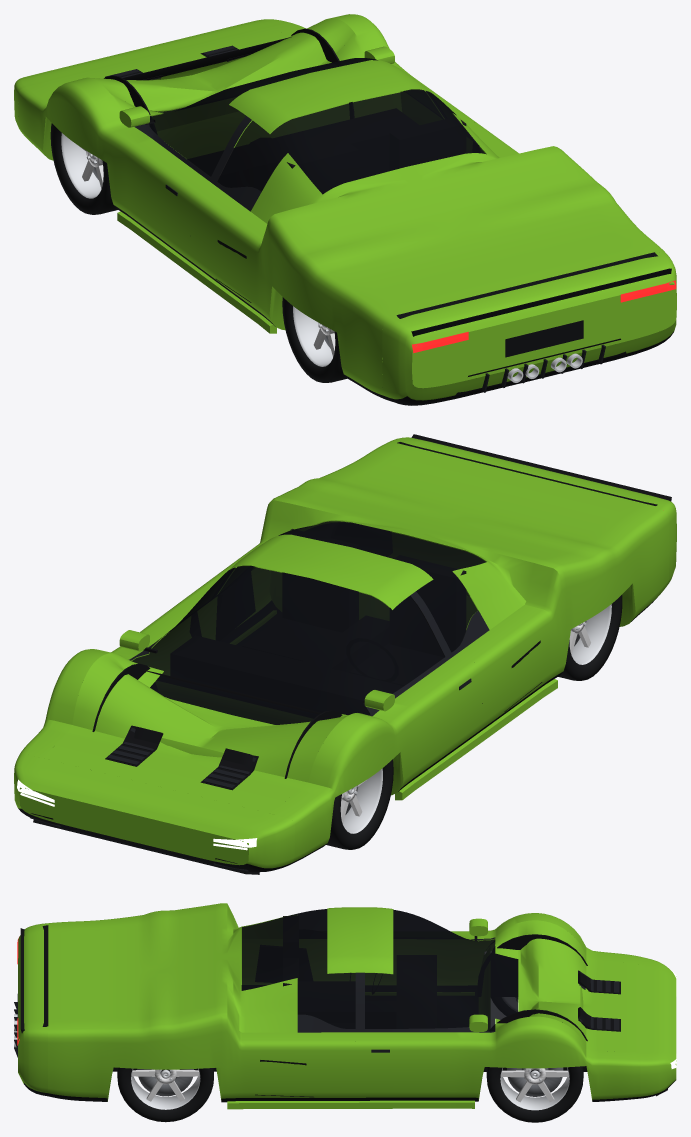
The picture shows the model from 3 angles, top to bottom: view 1: azimuth 30°, elevation 25°; view 2: azimuth 150°, elevation 25°; view 3: azimuth 270°, elevation 25°; orthographic projection. The views are drawn at different scales.
Visible parts, largest first — view 1: body, glass, bumper_rear, bumper_front, hood, wheel_FL, wheel_RL, spoiler, skirts, interior_low, lights_rear, exhaust; view 2: body, glass, hood, bumper_front, wheel_FL, bumper_rear, interior_low, wheel_RL, skirts, spoiler, lights_front; view 3: body, glass, hood, bumper_front, bumper_rear, wheel_FR, wheel_RR, skirts, spoiler, interior_low, brake_FR, brake_RR.
Boxes of the visible parts, left/top/right/bottom form: body: left=18, top=14, right=665, bottom=401; glass: left=149, top=58, right=485, bottom=194; bumper_rear: left=382, top=252, right=676, bottom=405; bumper_front: left=14, top=19, right=676, bottom=388; hood: left=44, top=18, right=354, bottom=110; wheel_FL: left=50, top=123, right=117, bottom=214; wheel_RL: left=282, top=297, right=346, bottom=382; spoiler: left=396, top=252, right=671, bottom=336; skirts: left=117, top=211, right=276, bottom=333; interior_low: left=187, top=110, right=466, bottom=193; lights_rear: left=412, top=280, right=676, bottom=353; exhaust: left=507, top=353, right=582, bottom=382; body: left=19, top=442, right=669, bottom=864; glass: left=131, top=521, right=485, bottom=724; hood: left=44, top=653, right=348, bottom=813; bumper_front: left=14, top=754, right=294, bottom=874; wheel_FL: left=326, top=759, right=393, bottom=849; bumper_rear: left=387, top=437, right=676, bottom=585; interior_low: left=171, top=529, right=466, bottom=714; wheel_RL: left=558, top=595, right=622, bottom=680; skirts: left=234, top=613, right=557, bottom=800; spoiler: left=397, top=434, right=671, bottom=505; lights_front: left=17, top=779, right=257, bottom=850; body: left=48, top=903, right=640, bottom=1102; glass: left=242, top=909, right=517, bottom=1031; hood: left=518, top=920, right=640, bottom=1052; bumper_front: left=640, top=956, right=676, bottom=1098; bumper_rear: left=14, top=923, right=47, bottom=1096; wheel_FR: left=486, top=1066, right=583, bottom=1122; wheel_RR: left=117, top=1067, right=213, bottom=1122; skirts: left=227, top=992, right=474, bottom=1109; spoiler: left=20, top=925, right=48, bottom=1033; interior_low: left=283, top=916, right=436, bottom=1028; brake_FR: left=507, top=1067, right=563, bottom=1096; brake_RR: left=137, top=1069, right=193, bottom=1096.
Size of what is drawn, in the model's own units: 2.13 by 1.13 by 4.94.
